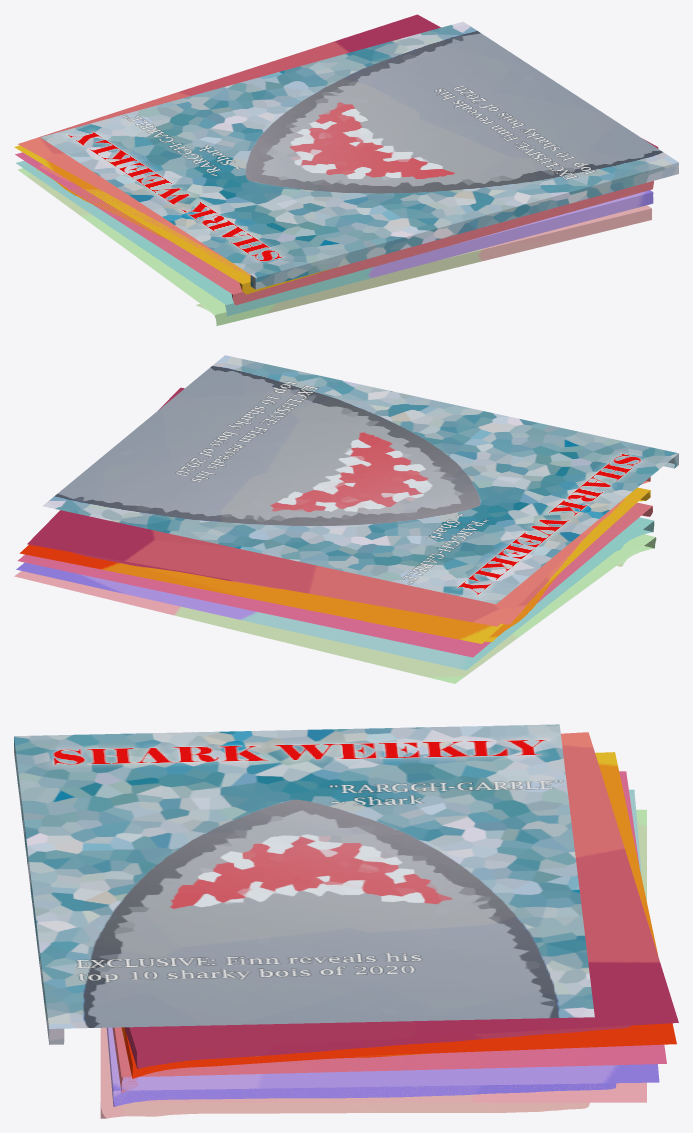
File: Magazines.fbx
3 views of the same model, one above another, from view 1: azimuth 30°, elevation 25°; view 2: azimuth 150°, elevation 25°; view 3: azimuth 270°, elevation 25° (orthographic). The views are drawn at different scales.
Parts seen in each view (by area): view 1: Magazine_stack; view 2: Magazine_stack; view 3: Magazine_stack.
Part boxes in pixels (left/top/right/bottom): Magazine_stack: left=14, top=14, right=678, bottom=325; Magazine_stack: left=14, top=355, right=678, bottom=683; Magazine_stack: left=14, top=724, right=678, bottom=1118.
Size of the model in its own units: 47.55 by 6.59 by 41.66.
